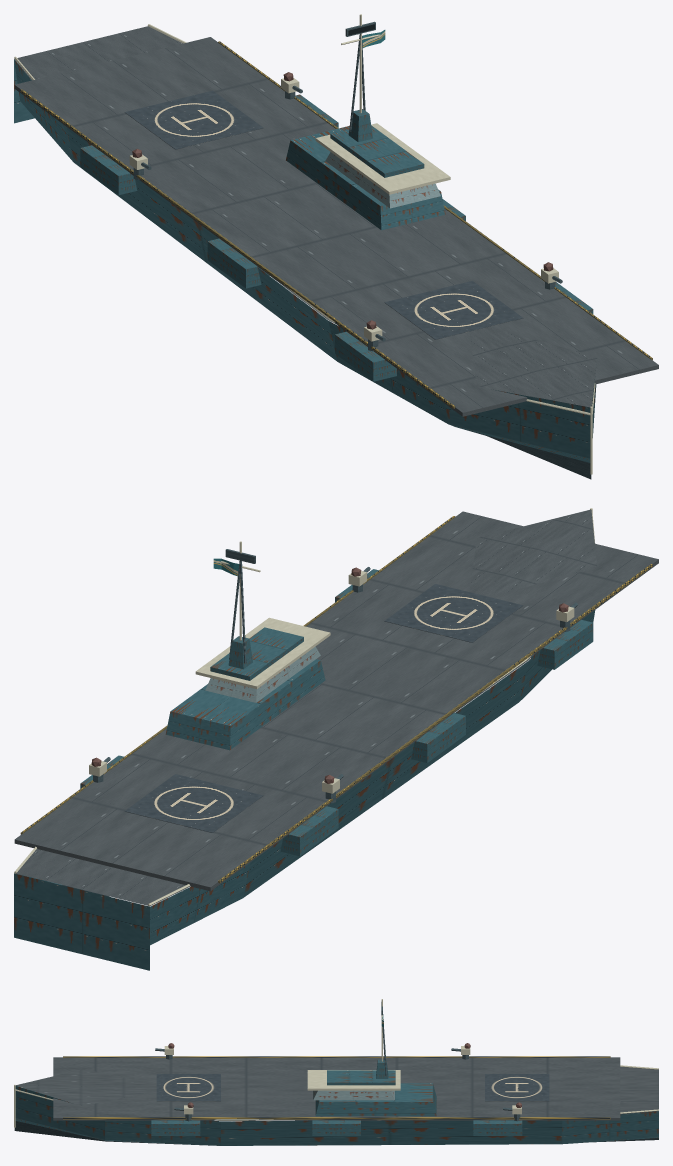
Rendered from carrier-lod2.glb.
The picture shows the model from 3 angles, top to bottom: view 1: azimuth 30°, elevation 25°; view 2: azimuth 150°, elevation 25°; view 3: azimuth 270°, elevation 25°; orthographic projection. The views are drawn at different scales.
Parts seen in each view (by area): view 1: body; view 2: body; view 3: body.
Boxes of the visible parts, x1,y1,x2,y2 form: body: (14, 14, 658, 479); body: (14, 508, 658, 970); body: (14, 999, 658, 1145).
Size of the model in its own units: 20.43 by 21.1 by 82.12.
Materials: 1 (1 with a texture image).
